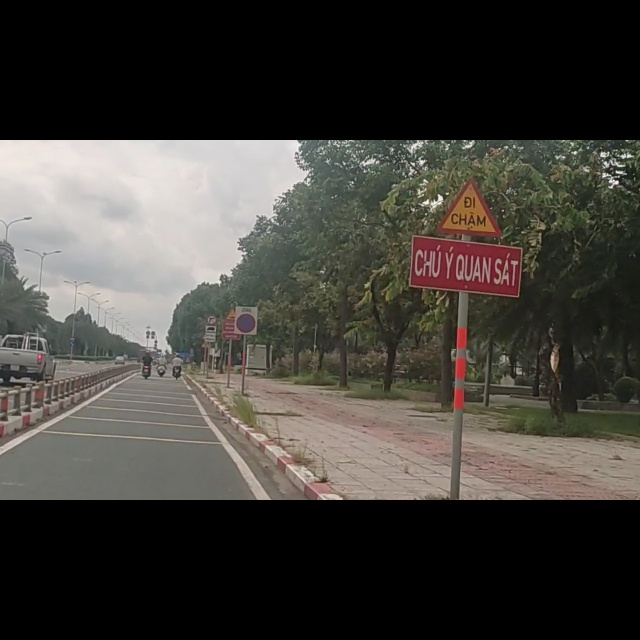bien_cam: (437, 65, 504, 175), (232, 292, 261, 347), (203, 329, 217, 361), (206, 311, 217, 328)
